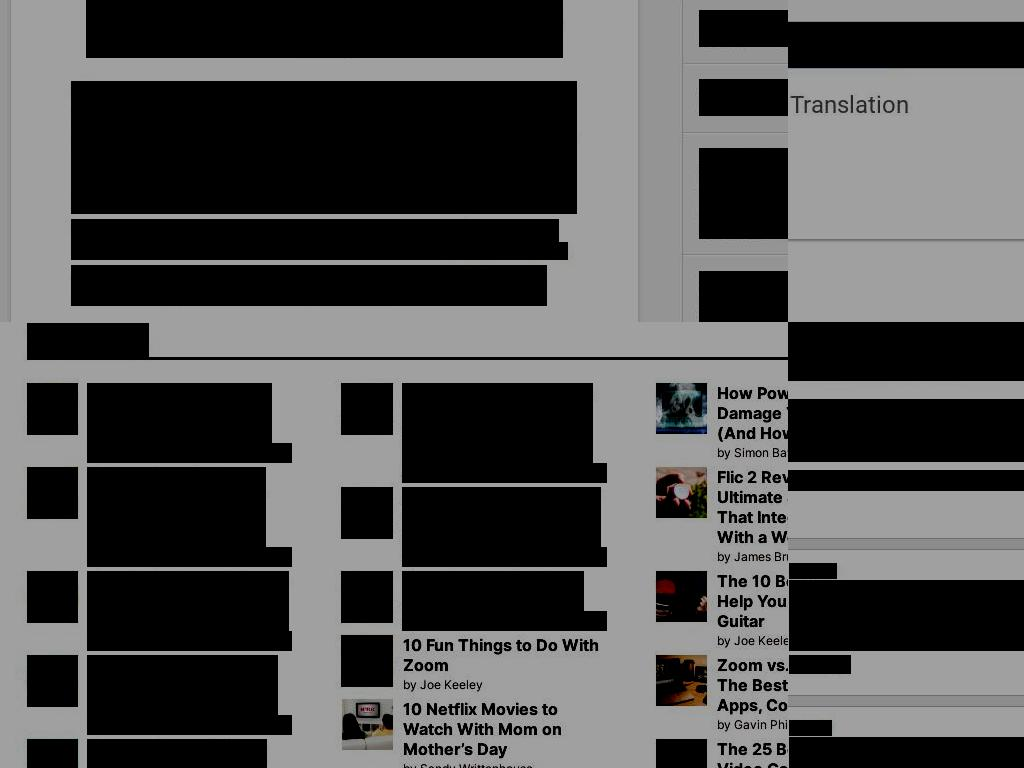button: (699, 148, 788, 239), (699, 271, 788, 322), (699, 10, 788, 47), (699, 79, 788, 116), (341, 383, 393, 435), (341, 487, 393, 539), (341, 571, 393, 623), (341, 635, 393, 687), (341, 699, 393, 751), (656, 383, 708, 435), (656, 467, 708, 519), (656, 571, 708, 623), (656, 655, 708, 707), (27, 383, 78, 435), (27, 467, 78, 519), (27, 571, 78, 623), (27, 655, 78, 707), (656, 739, 708, 768), (27, 739, 78, 768)
heading: (402, 383, 593, 464), (87, 467, 266, 548), (87, 571, 289, 632), (402, 487, 601, 548), (87, 655, 278, 716), (87, 383, 272, 444), (402, 699, 562, 760), (402, 635, 599, 676), (402, 571, 584, 612), (717, 467, 788, 548), (87, 739, 267, 768), (717, 383, 788, 444), (717, 571, 788, 632), (717, 655, 788, 716), (27, 323, 149, 358), (717, 739, 788, 768)
image: (341, 383, 393, 435), (341, 487, 393, 539), (341, 571, 393, 623), (341, 635, 393, 687), (341, 699, 393, 751), (656, 383, 708, 435), (656, 467, 708, 519), (656, 571, 708, 623), (656, 655, 708, 707), (27, 383, 78, 435), (27, 467, 78, 519), (27, 571, 78, 623), (27, 655, 78, 707), (656, 739, 708, 768), (27, 739, 78, 768)
link: (789, 580, 1024, 651), (788, 399, 1024, 462), (789, 737, 1024, 768), (71, 81, 202, 99), (452, 242, 568, 260), (71, 219, 159, 237), (789, 563, 837, 579), (789, 720, 832, 736)
text: (71, 81, 577, 214), (86, 0, 563, 58), (71, 219, 559, 260), (71, 265, 547, 306), (788, 470, 1024, 491), (891, 22, 997, 68), (788, 22, 892, 68), (87, 443, 292, 463), (87, 547, 292, 567), (87, 631, 292, 651), (87, 715, 292, 735), (402, 463, 607, 483), (402, 547, 607, 567), (402, 611, 607, 631), (402, 675, 607, 695), (789, 89, 909, 121), (402, 759, 607, 768), (717, 443, 788, 463), (717, 547, 788, 567), (717, 631, 788, 651), (717, 715, 788, 735), (788, 375, 1024, 381), (996, 22, 1024, 68), (789, 655, 851, 674)
